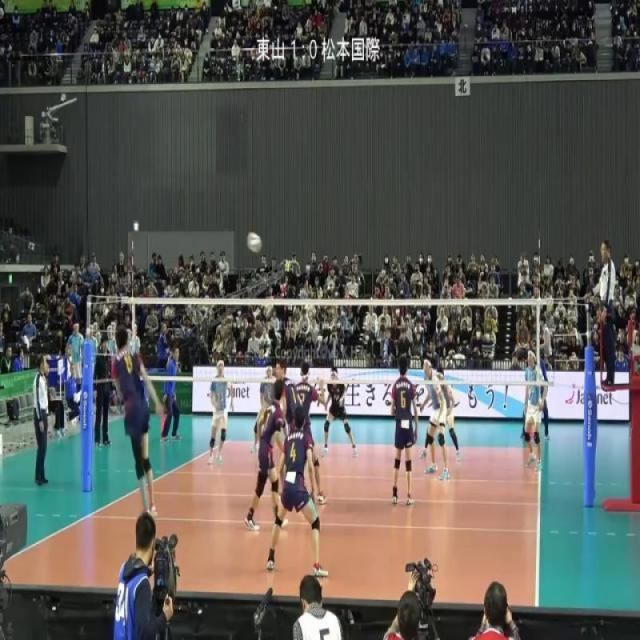volleyball: (245, 231, 262, 255)
